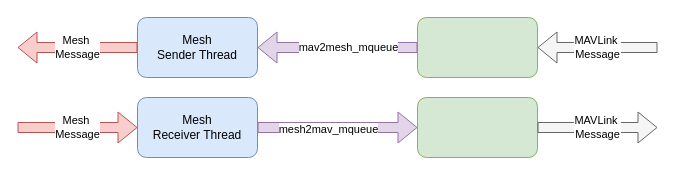
The diagram is 674 pixels wide and 175 high, and some of its shapes have lost their labels. Here are the shapes that lost their labels. From the top down, the centre of each, then its label:
At (x=477, y=47): "Net Receiver Thread".
At (x=477, y=127): "Net Sender Thread".
